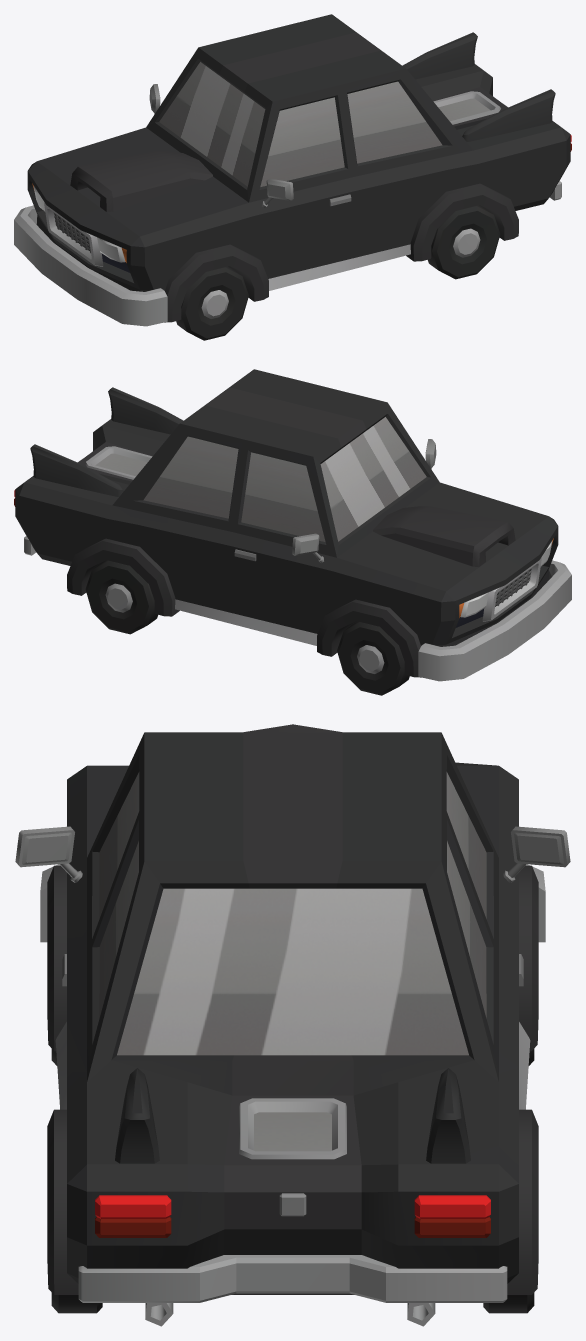
File: Car_10_M.fbx
3 views of the same model, one above another, from view 1: azimuth 30°, elevation 25°; view 2: azimuth 150°, elevation 25°; view 3: azimuth 270°, elevation 25° (orthographic). The views are drawn at different scales.
Parts seen in each view (by area): view 1: Car_10_M, RL, FL; view 2: Car_10_M, RR, FR; view 3: Car_10_M, RL, RR.
Part boxes in pixels (<box>): Car_10_M: <box>14,14,571,326</box>; RL: <box>428,205,500,279</box>; FL: <box>176,266,248,340</box>; Car_10_M: <box>14,369,571,681</box>; RR: <box>85,560,157,634</box>; FR: <box>337,621,409,695</box>; Car_10_M: <box>15,724,570,1326</box>; RL: <box>51,1293,102,1313</box>; RR: <box>483,1293,534,1313</box>.
Bounding box in the file's own units: 3.58 × 1.49 × 1.85.
